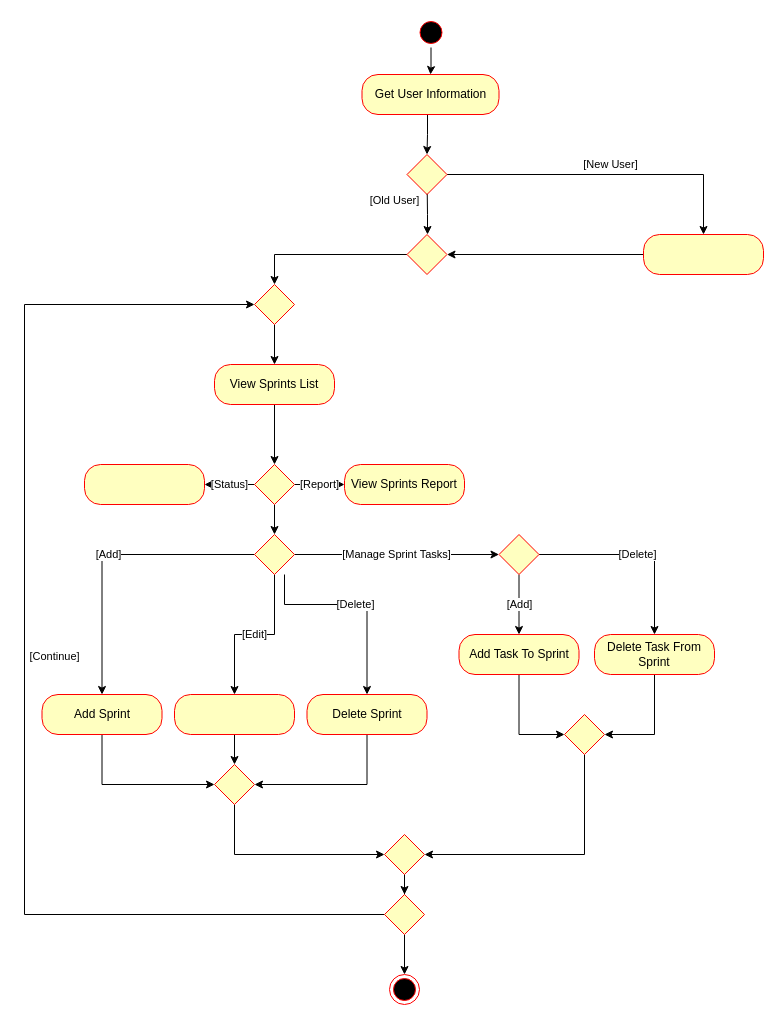
Image size: 781x1022. Some labels were removed from this diagram. Each missing label, with the centre of its shape:
"Create New User" goes at point 703,254.
"Edit Sprint" goes at point 234,714.
"View Members Daily Status" goes at point 144,484.
